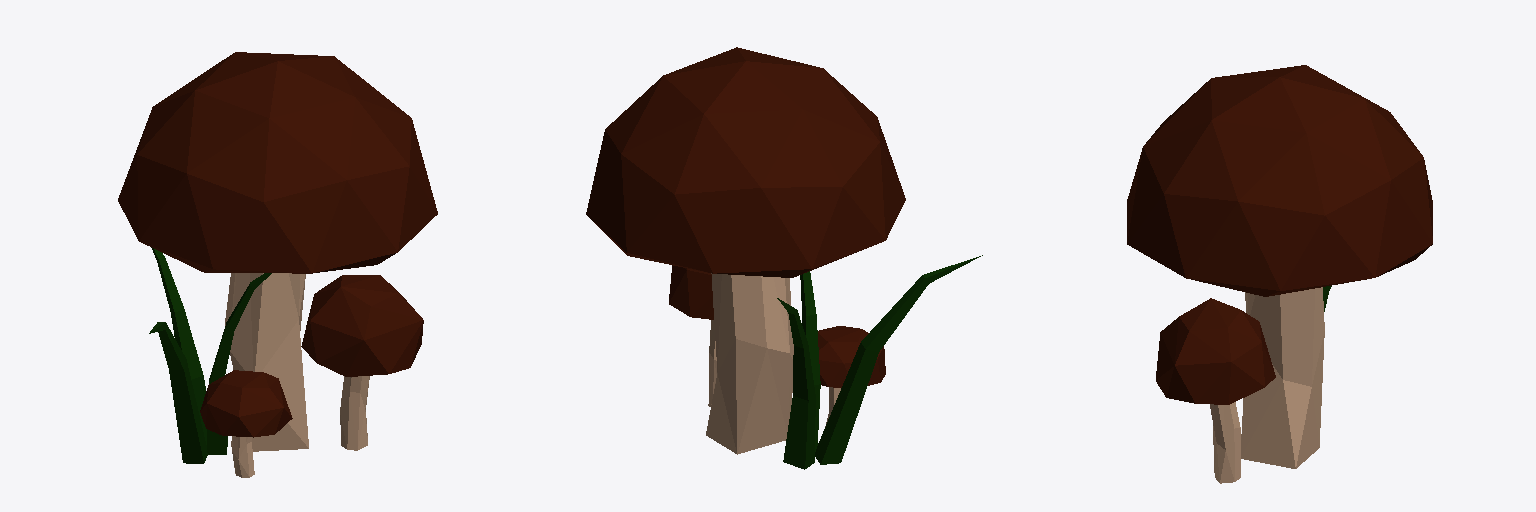
File: mushroom1.obj
3 views of the same model, side by side, from view 1: azimuth 30°, elevation 25°; view 2: azimuth 150°, elevation 25°; view 3: azimuth 270°, elevation 25° (orthographic).
Parts seen in each view (by area): view 1: Mushrooms_grass_Cylinder.069; view 2: Mushrooms_grass_Cylinder.069; view 3: Mushrooms_grass_Cylinder.069.
Part boxes in pixels (x1,y1,x2,y2): Mushrooms_grass_Cylinder.069: (118, 52, 437, 477); Mushrooms_grass_Cylinder.069: (586, 47, 982, 469); Mushrooms_grass_Cylinder.069: (1127, 65, 1432, 483).
Size of the model in its own units: 0.9124 by 1.02 by 0.7508.